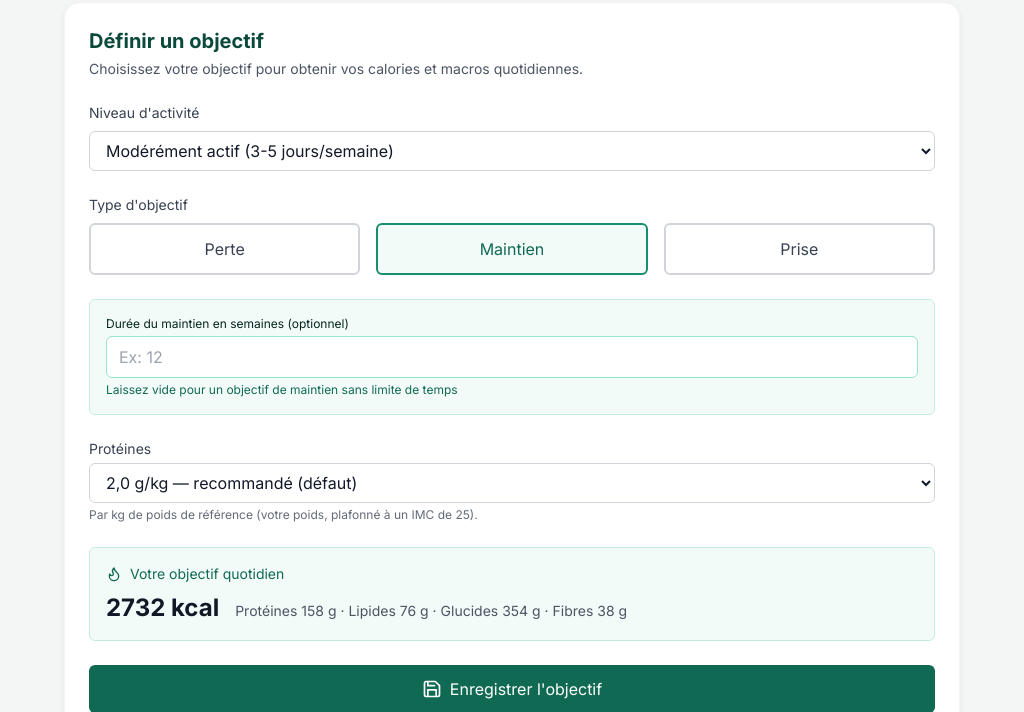
GoalPage › enregistre un nouvel objectif puis recharge la page
The width and height of the screenshot is (1024, 712).
Click the button "Prise".
click(799, 249)  # box 664,223 -> 935,275
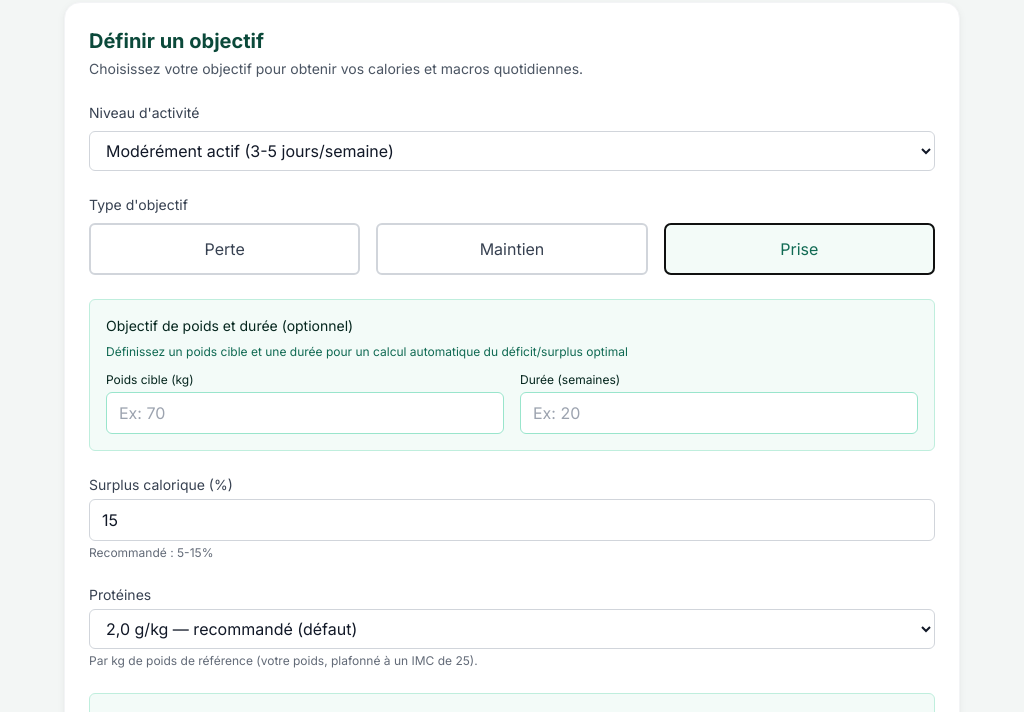
Select "Légèrement actif (1-3 jours/semaine)" in the dropdown labelled "Niveau d'activité" at (512, 151), box 89,131 -> 935,171
(page scrolled)
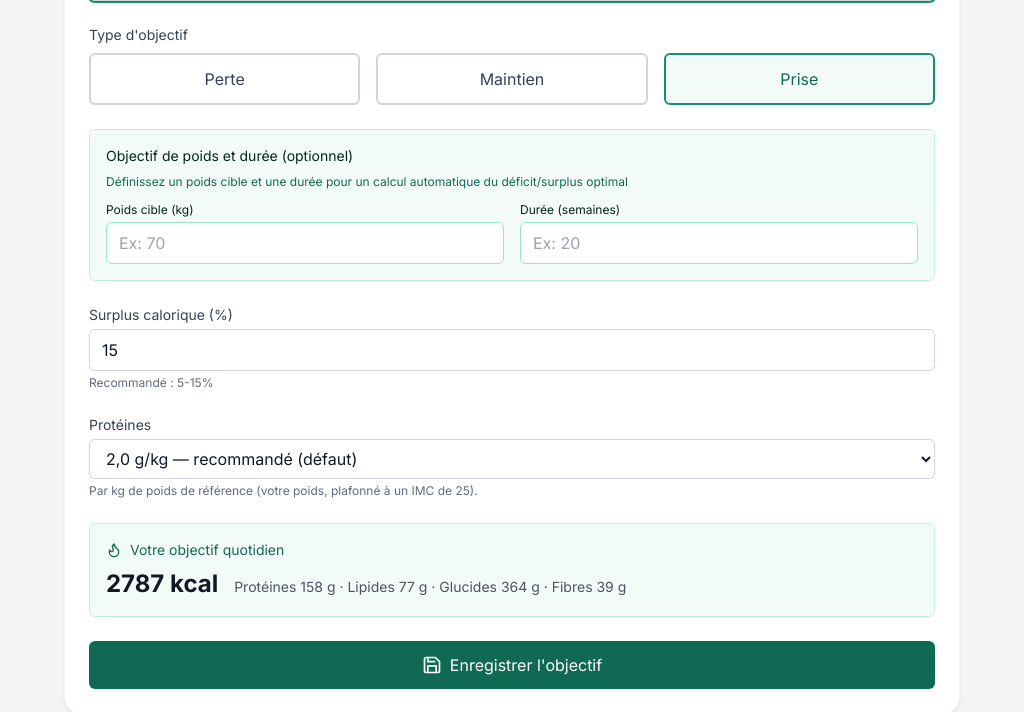
Click the button "Enregistrer l'objectif".
click(512, 665)  # box 89,641 -> 935,689
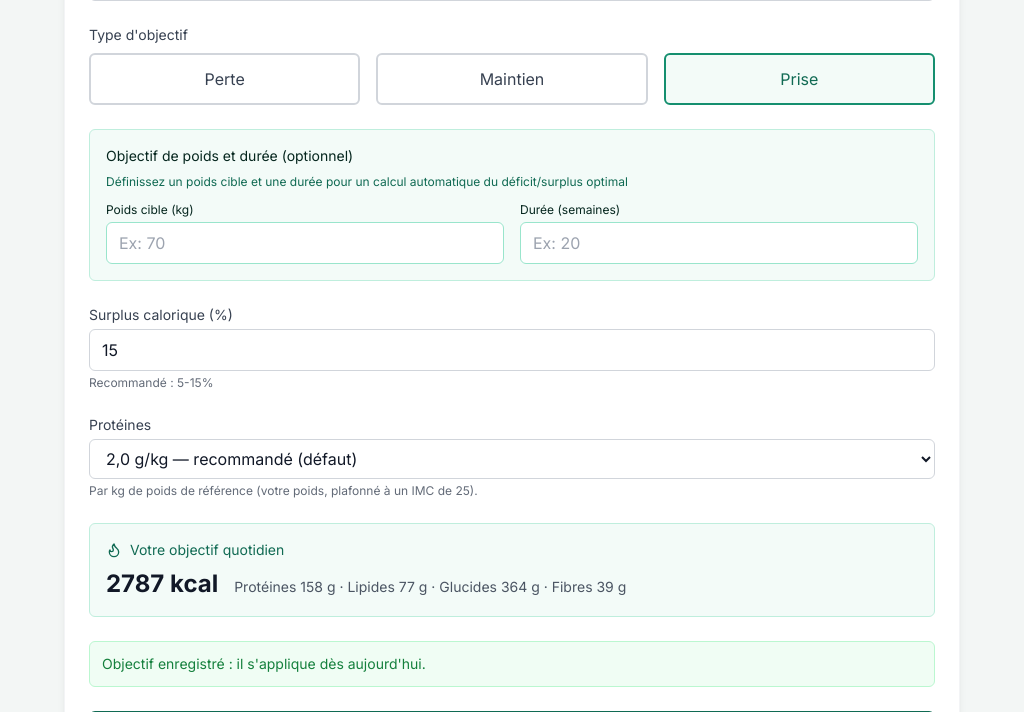
Now the message shows "Objectif enregistré", box 102,655 -> 426,672
